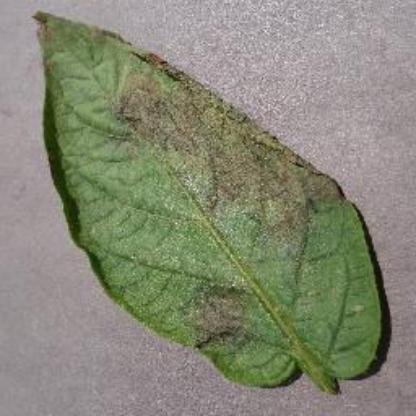Late-Blight: (31, 20, 390, 402)
